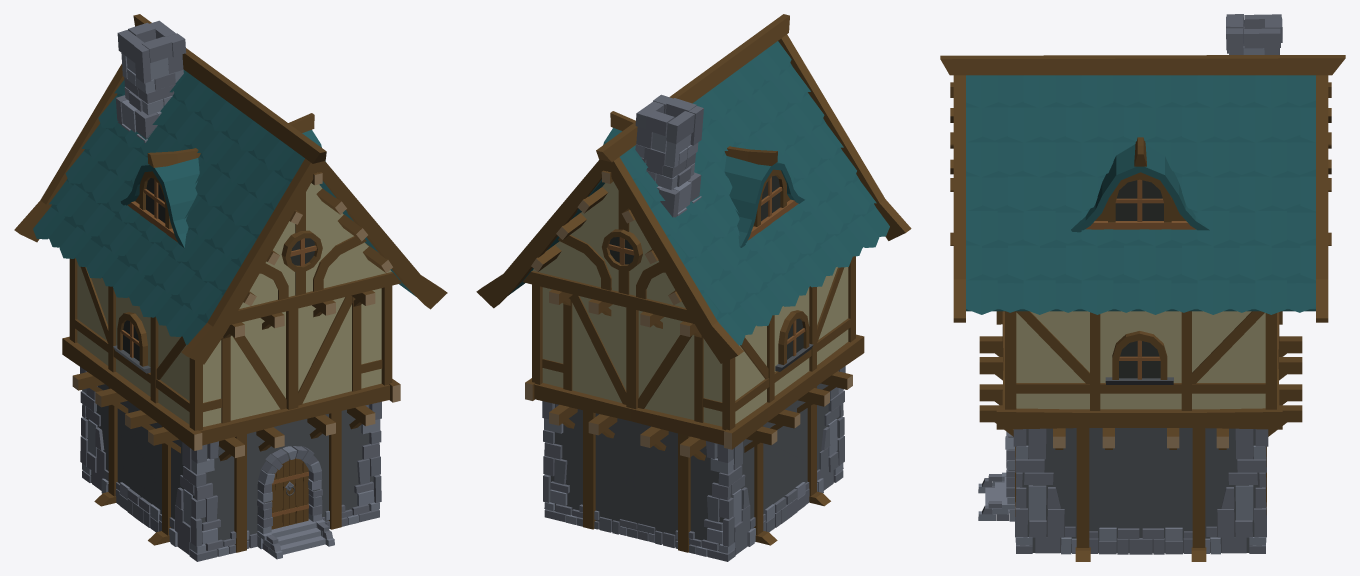
File: fantasy-house-2.glb
3 views of the same model, side by side, from view 1: azimuth 30°, elevation 25°; view 2: azimuth 150°, elevation 25°; view 3: azimuth 270°, elevation 25° (orthographic). The views are drawn at different scales.
Visible parts, largest first — view 1: House_1; view 2: House_1; view 3: House_1.
Boxes of the visible parts, left/top/right/bottom form: House_1: left=14, top=14, right=447, bottom=561; House_1: left=476, top=14, right=911, bottom=561; House_1: left=940, top=14, right=1345, bottom=561.
Bounding box in the file's own units: 2.14 × 3.39 × 2.66.
1 material, 1 textured.
